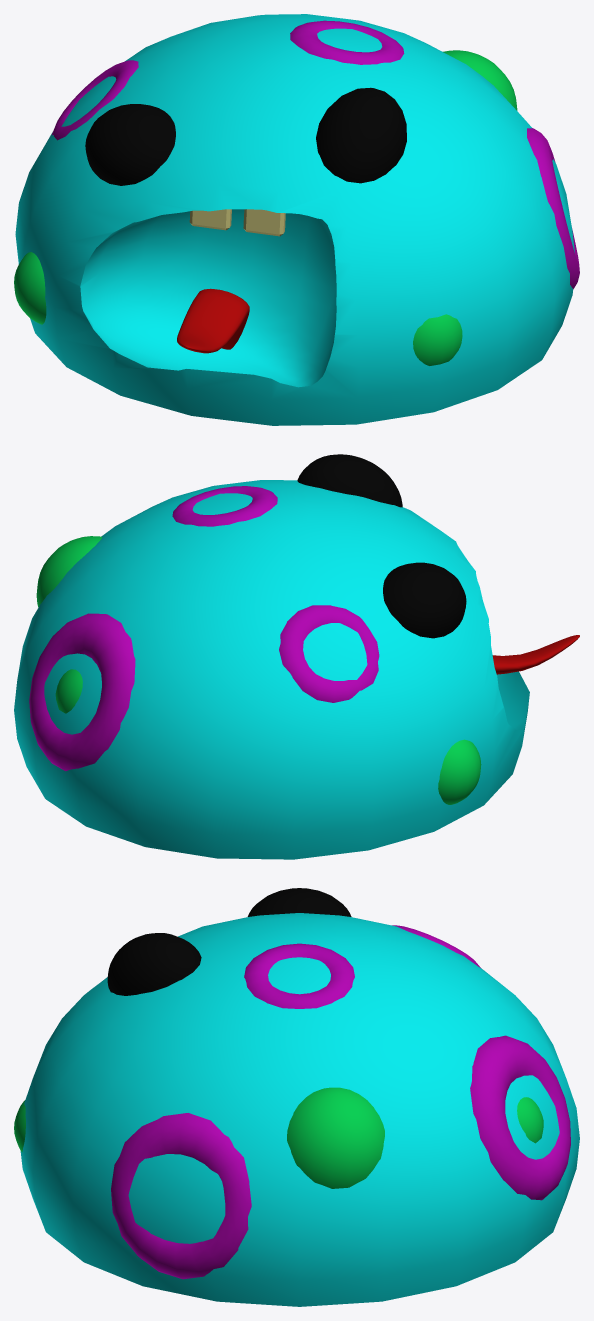
The model's file is Boss.fbx.
The picture shows the model from 3 angles, top to bottom: view 1: azimuth 30°, elevation 25°; view 2: azimuth 150°, elevation 25°; view 3: azimuth 270°, elevation 25°; orthographic projection. The views are drawn at different scales.
Parts seen in each view (by area): view 1: body, eye2, eye1, tongue, Spot1, spot2, spot6, spot8, spot4, spot7, tooth2, tooth1; view 2: body, spot3, eye1, spot4, eye2, Spot1, spot8, spot7, tongue, spot5; view 3: body, spot2, spot3, spot7, eye2, Spot1, eye1, spot5.
Part boxes in pixels (bbox=[...]): body: bbox=[15, 14, 574, 425]; eye2: bbox=[316, 87, 406, 183]; eye1: bbox=[85, 104, 175, 185]; tongue: bbox=[177, 288, 249, 353]; Spot1: bbox=[290, 20, 404, 64]; spot2: bbox=[527, 128, 579, 288]; spot6: bbox=[413, 314, 462, 365]; spot8: bbox=[14, 252, 46, 324]; spot4: bbox=[52, 60, 138, 140]; spot7: bbox=[443, 50, 517, 110]; tooth2: bbox=[243, 209, 285, 236]; tooth1: bbox=[189, 209, 231, 230]; body: bbox=[14, 480, 529, 859]; spot3: bbox=[29, 613, 135, 771]; eye1: bbox=[383, 562, 466, 638]; spot4: bbox=[279, 605, 379, 702]; eye2: bbox=[297, 454, 402, 507]; Spot1: bbox=[172, 486, 277, 526]; spot8: bbox=[438, 739, 481, 804]; spot7: bbox=[36, 536, 102, 607]; tongue: bbox=[492, 635, 579, 674]; spot5: bbox=[55, 669, 82, 713]; body: bbox=[20, 913, 579, 1306]; spot2: bbox=[111, 1113, 251, 1279]; spot3: bbox=[470, 1035, 570, 1200]; spot7: bbox=[287, 1087, 384, 1188]; eye2: bbox=[107, 933, 201, 995]; Spot1: bbox=[244, 943, 354, 1008]; eye1: bbox=[247, 888, 351, 916]; spot5: bbox=[517, 1097, 543, 1143].
Size of the model in its own units: 13.08 by 6.89 by 13.56.
